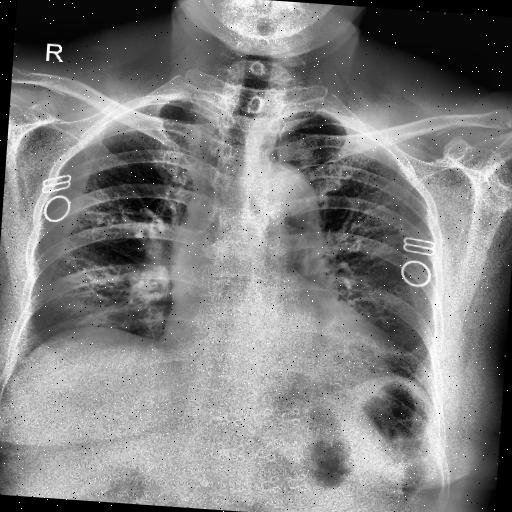0- Aortic enlargement: (230, 160, 328, 264), (238, 158, 326, 246), (246, 162, 320, 246)
3- Cardiomegaly: (160, 288, 400, 383), (159, 298, 406, 387), (158, 304, 402, 388)
